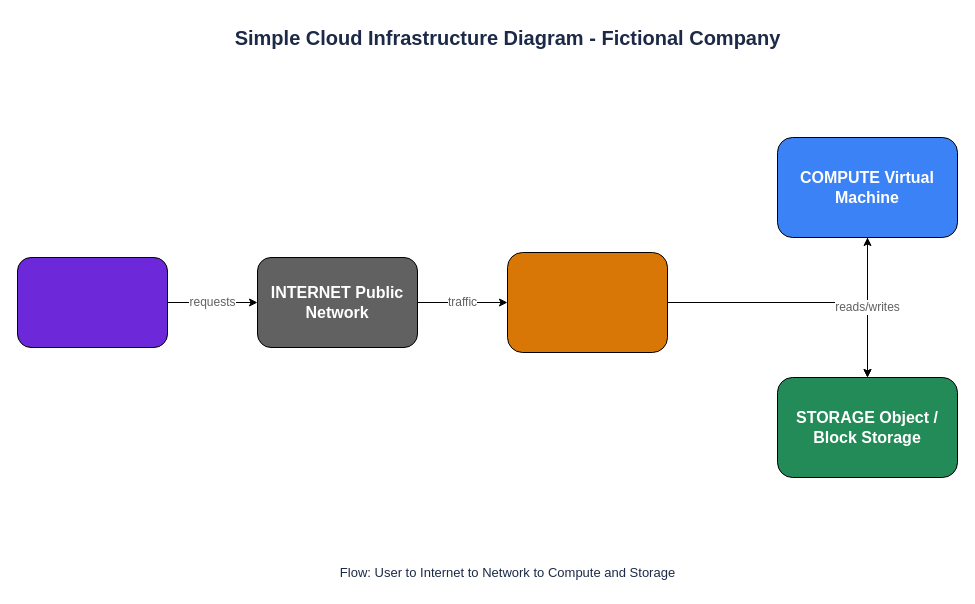
Some shapes in this 975 by 604 pixel diagram are drawn without their labels. The shapes that lost their labels are listed below. From the top down, each one's box as (x1, y1, x2, y2) in pixels, then its label:
(16, 256, 168, 348): USER Client / Browser
(506, 252, 668, 352): NETWORK VPC / Firewall
